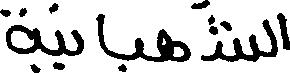X: (0, 3, 38, 72), (218, 16, 259, 66), (157, 24, 190, 66), (85, 9, 108, 59), (54, 0, 64, 72), (263, 14, 276, 61), (278, 8, 289, 54), (135, 33, 144, 63), (73, 25, 74, 60)
